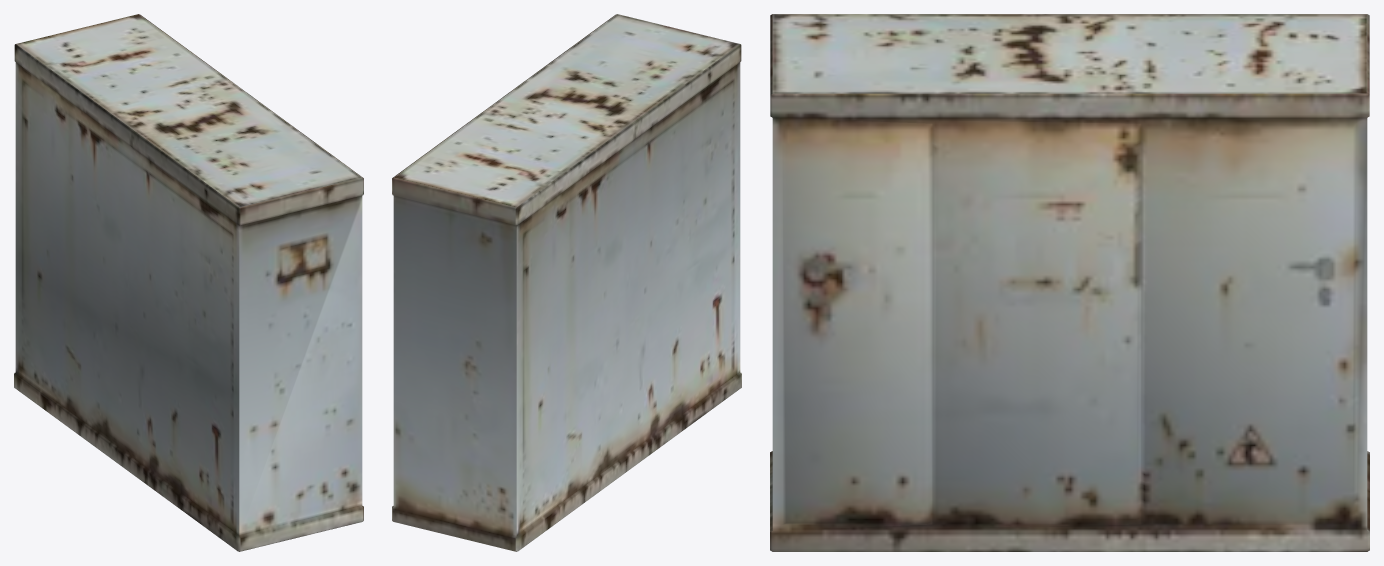
File: electrical_box_a.glb
3 views of the same model, side by side, from view 1: azimuth 30°, elevation 25°; view 2: azimuth 150°, elevation 25°; view 3: azimuth 270°, elevation 25° (orthographic). The views are drawn at different scales.
Parts seen in each view (by area): view 1: electrical_box_a; view 2: electrical_box_a; view 3: electrical_box_a.
Boxes of the visible parts, x1=… form: electrical_box_a: x1=14, y1=14, x2=363, y2=551; electrical_box_a: x1=392, y1=14, x2=741, y2=551; electrical_box_a: x1=770, y1=14, x2=1369, y2=551.
Bounding box in the file's own units: 0.6229 × 1.61 × 1.91.
Materials: 1 (1 with a texture image).
